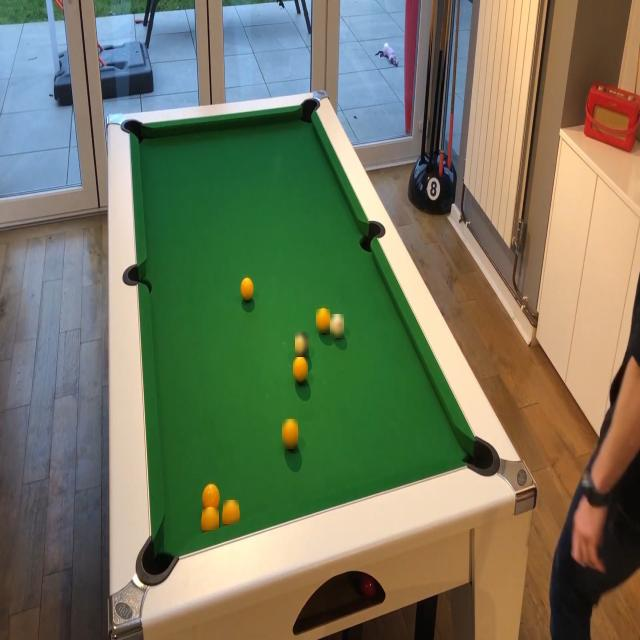Ball: (282, 419, 298, 449), (202, 483, 220, 509), (202, 507, 219, 530), (223, 500, 239, 524), (293, 358, 308, 383), (316, 309, 330, 333), (330, 314, 344, 338), (295, 332, 309, 356), (240, 278, 254, 300)
Billiard table: (107, 89, 537, 640)
